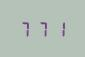one: (51, 20, 66, 37)
seven: (18, 20, 33, 37), (35, 20, 50, 37)
